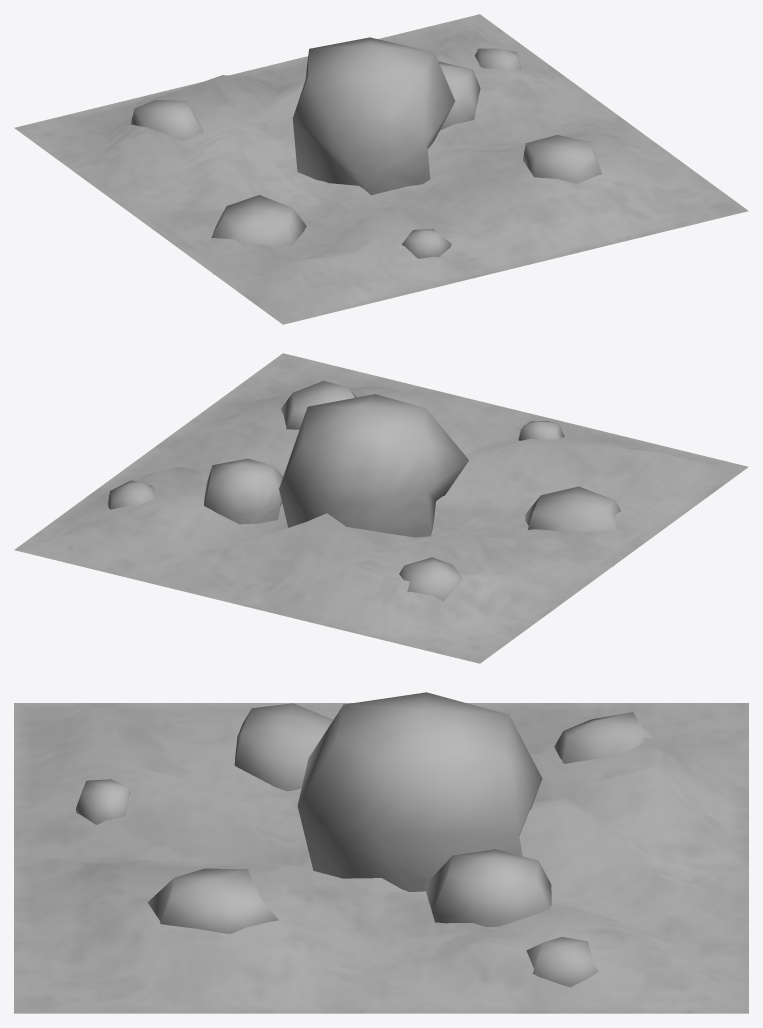
Rendered from m_Tile_Rubble_Large.fbx.
3 renders of one model, top to bottom at view 1: azimuth 30°, elevation 25°; view 2: azimuth 150°, elevation 25°; view 3: azimuth 270°, elevation 25°, orthographic. The views are drawn at different scales.
Parts seen in each view (by area): view 1: m_Tile_Rubble_Large; view 2: m_Tile_Rubble_Large; view 3: m_Tile_Rubble_Large.
Part boxes in pixels (x1,y1,x2,y2): m_Tile_Rubble_Large: (14, 14, 748, 324); m_Tile_Rubble_Large: (14, 353, 748, 663); m_Tile_Rubble_Large: (14, 692, 748, 1013).
Size of the model in its own units: 100 by 29.49 by 100.
